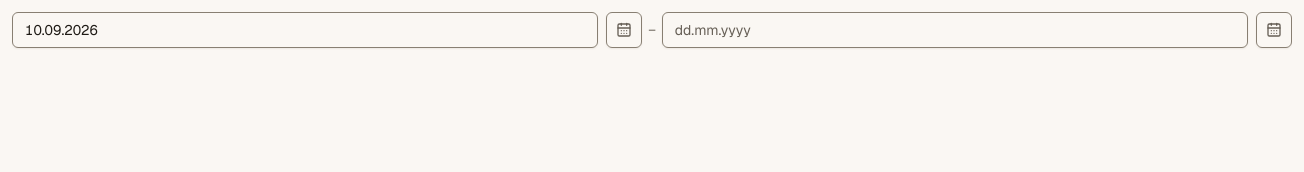
a date range never runs backwards › applies the held end on its own once the start is moved before it
This screenshot has width=1304, height=172.
Step 1. Type "01092026" into the field with id "range-to" → (955, 30), box 662,12 -> 1248,48
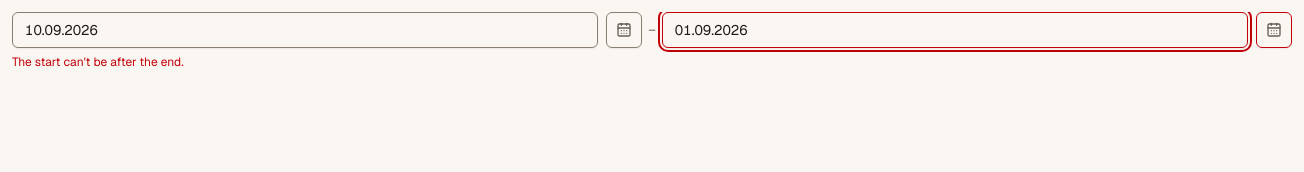
Step 2. Replace the text in the field with id "range-from" with "01082026" → (305, 30), box 12,12 -> 598,48
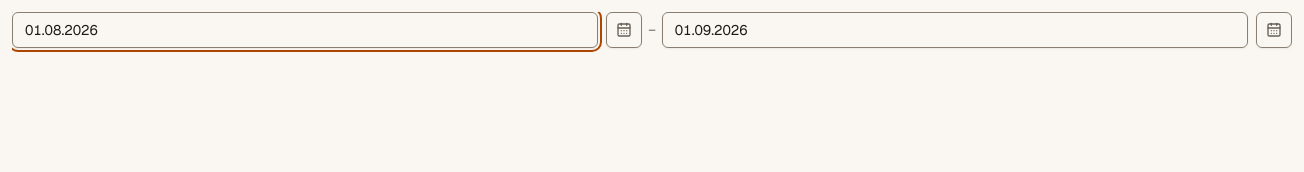
Expected: the message "The start can't be after the end." is gone
